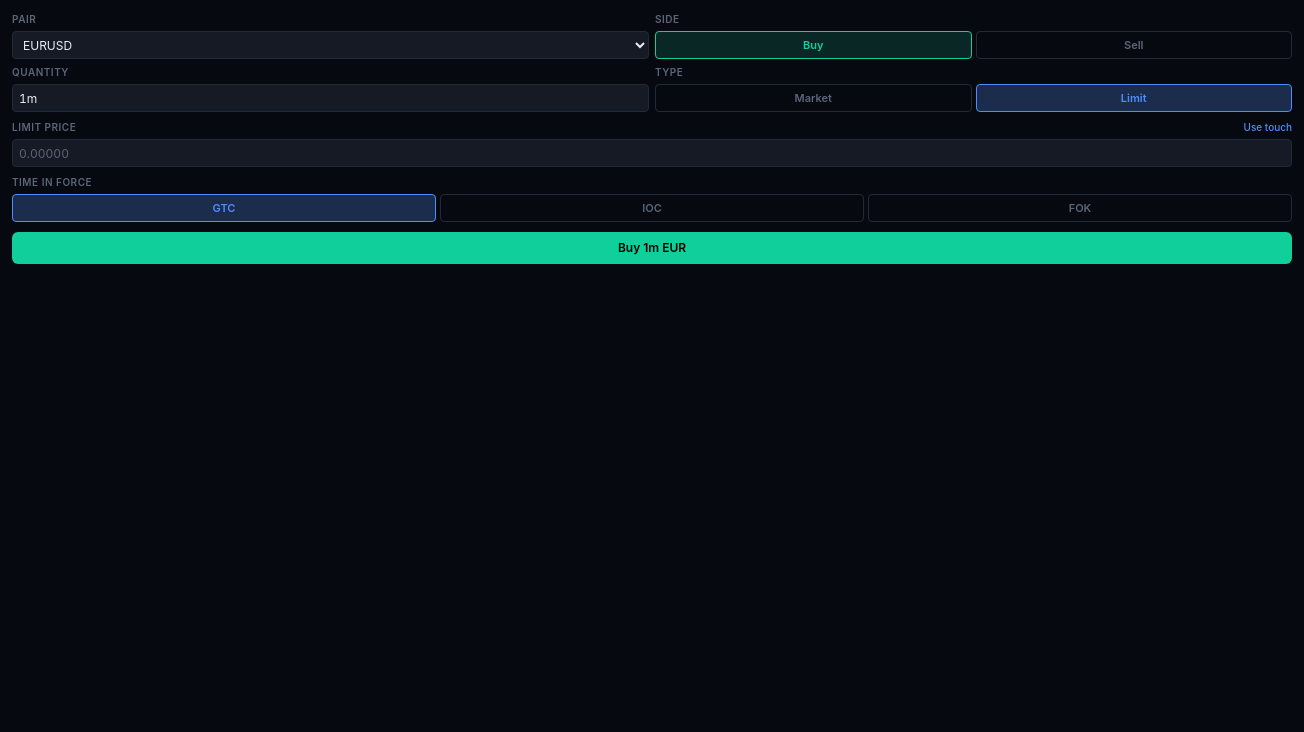
OrderTicket › reports a rejection from the order service
The width and height of the screenshot is (1304, 732).
In the field with test id "order-limit": [652, 153] box [12,139,1292,167], type "1.08"
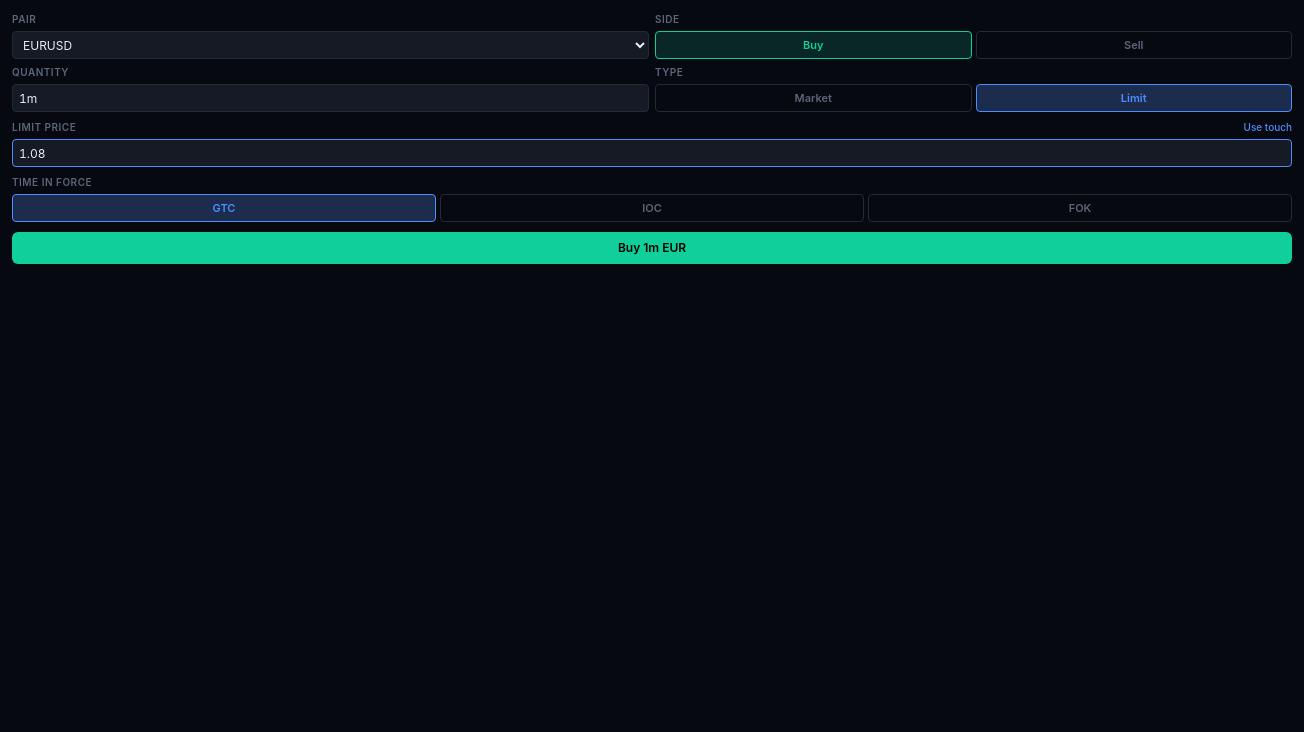
Click the button with test id "order-submit": [652, 248] box [12,232,1292,264]
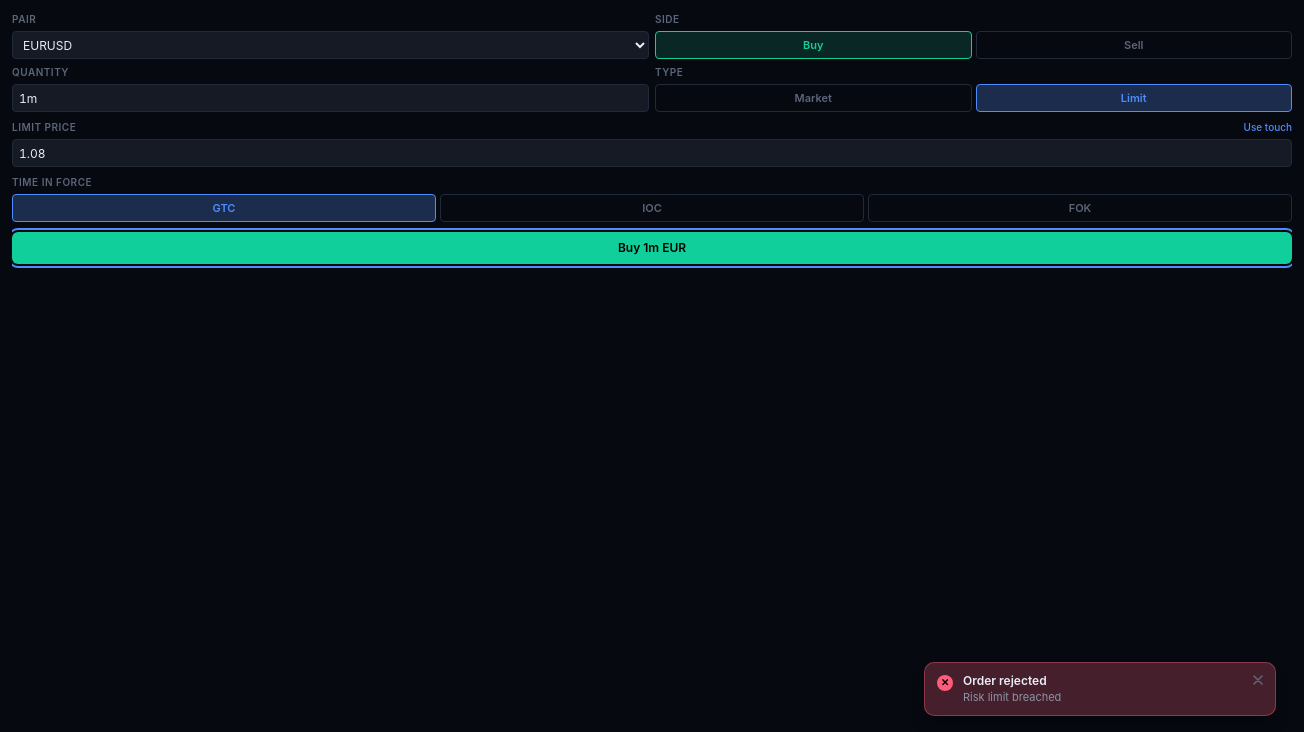
Check: the element with test id "toast" shows "Risk limit breached", box [963,690,1061,704]
